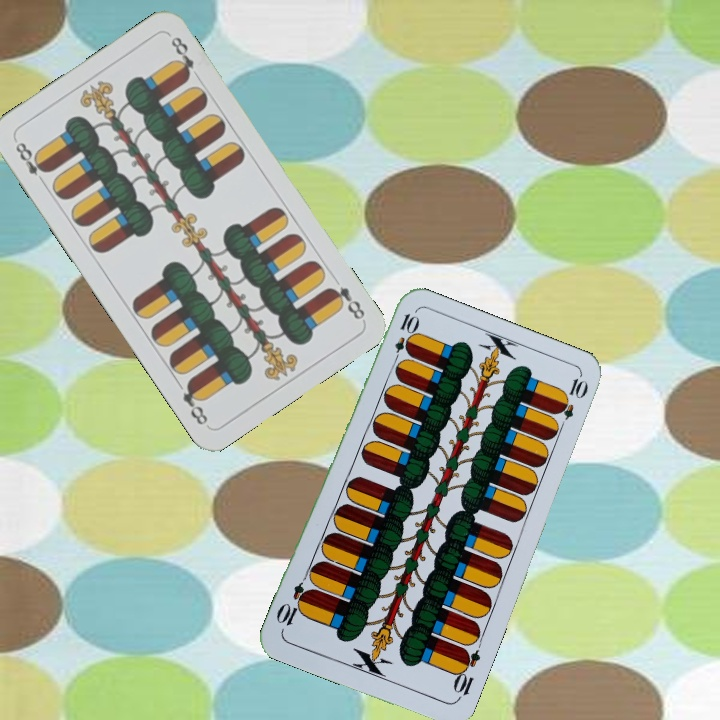E10: (449, 644, 483, 703), (389, 309, 420, 368)
E8: (11, 138, 52, 188), (323, 282, 368, 323)
